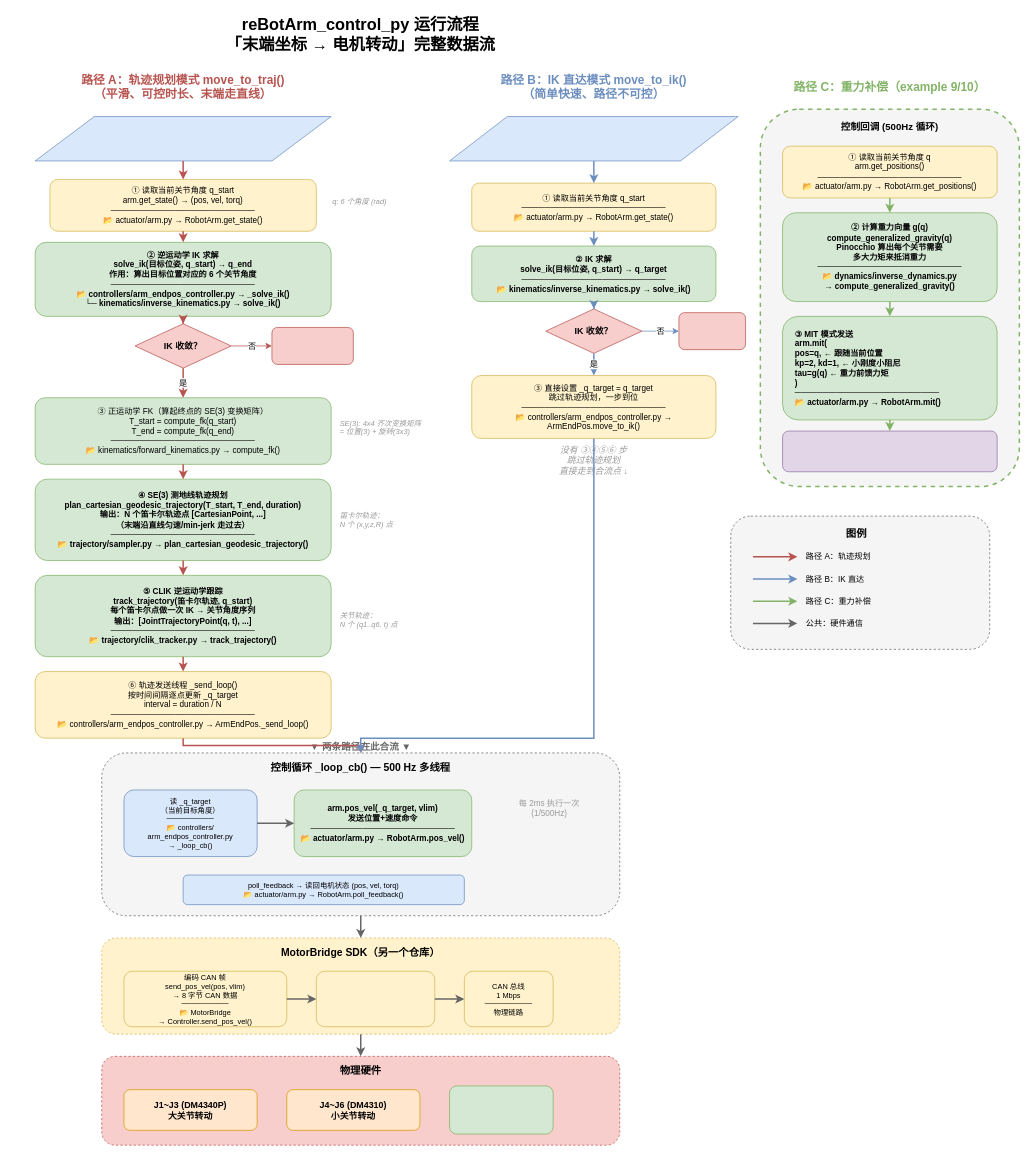
This 1032x1158 diagram has some shape labels left out. The box of each missing label's shape, as (x1, y1, x2, y2) in pixels:
串口发送 /dev/ttyACM0 921600 bps ───────── 📂 MotorBridge → SerialBridge: (316, 971, 435, 1027)
报错退出: (678, 312, 746, 350)
报错退出 IK 未收敛: (271, 327, 353, 364)
效果：机械臂「漂浮」 可以手动掰到任何位置 松手后不会因自重坠落: (782, 430, 997, 472)
末端到达 目标位置!: (449, 1085, 553, 1134)
用户输入目标 (x, y, z, roll, pitch, yaw): (449, 116, 738, 161)
用户输入目标 (x, y, z, roll, pitch, yaw, duration): (34, 116, 331, 161)
